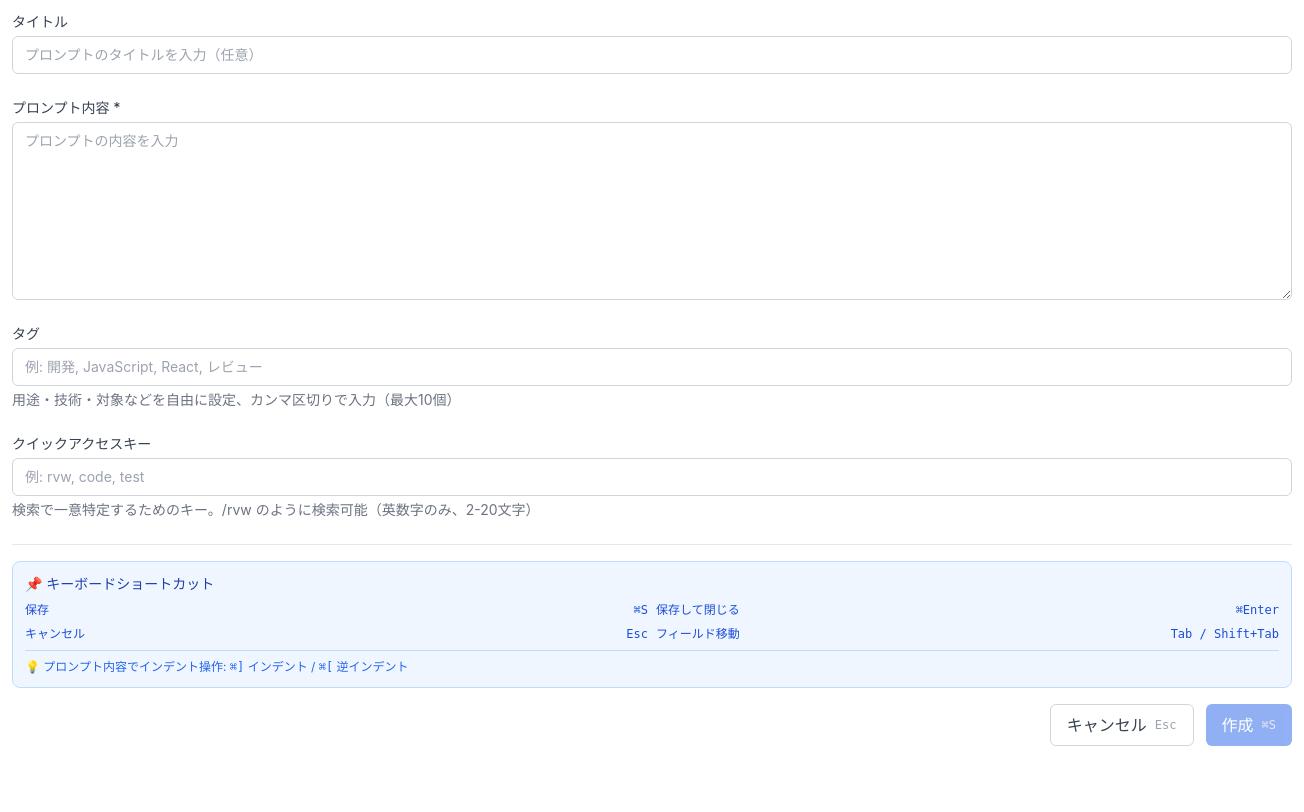
PromptForm › enables submit button with title and content filled
The width and height of the screenshot is (1304, 812).
// Fill both optional and required fields
In the field labelled "タイトル": coordinates (652, 55) [12,36,1292,74], type "Test Title"
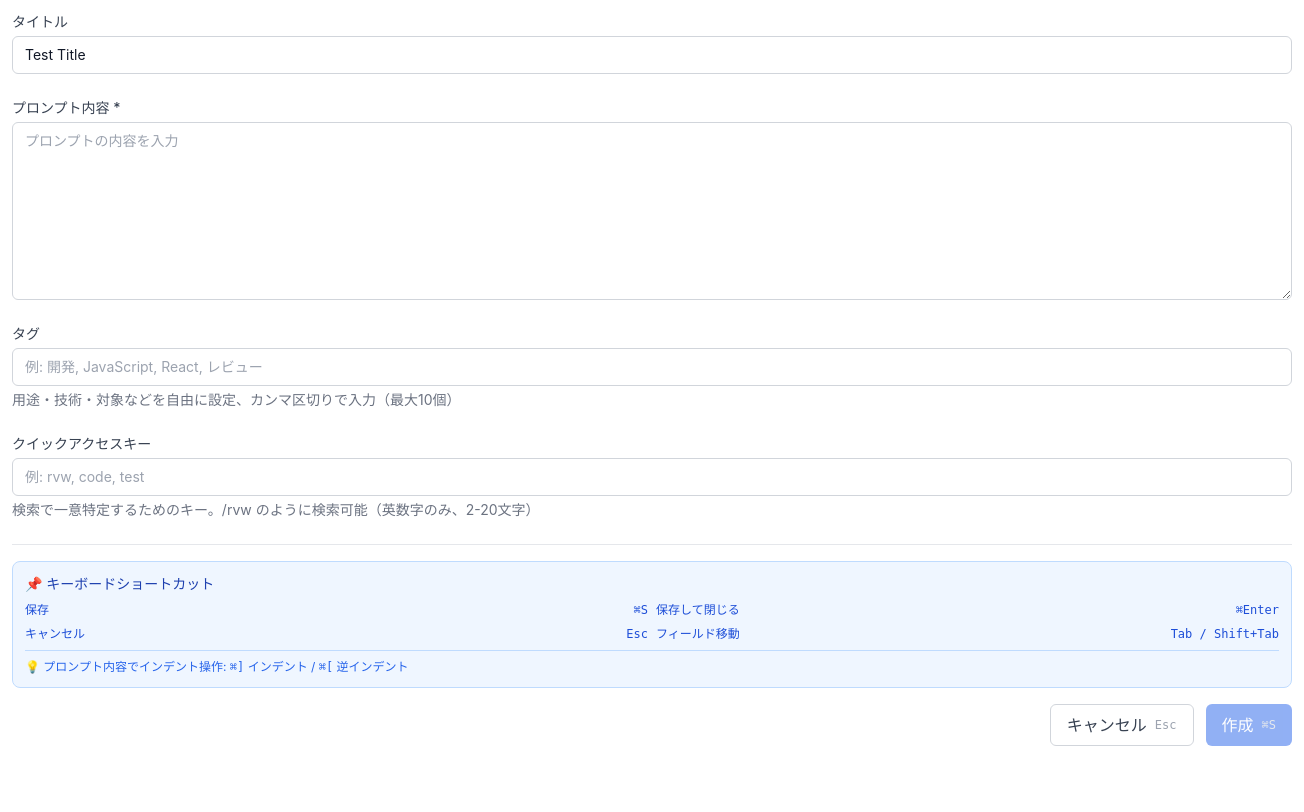
In the text box labelled "プロンプト内容 *": coordinates (652, 211) [12,122,1292,300], type "Test Content"
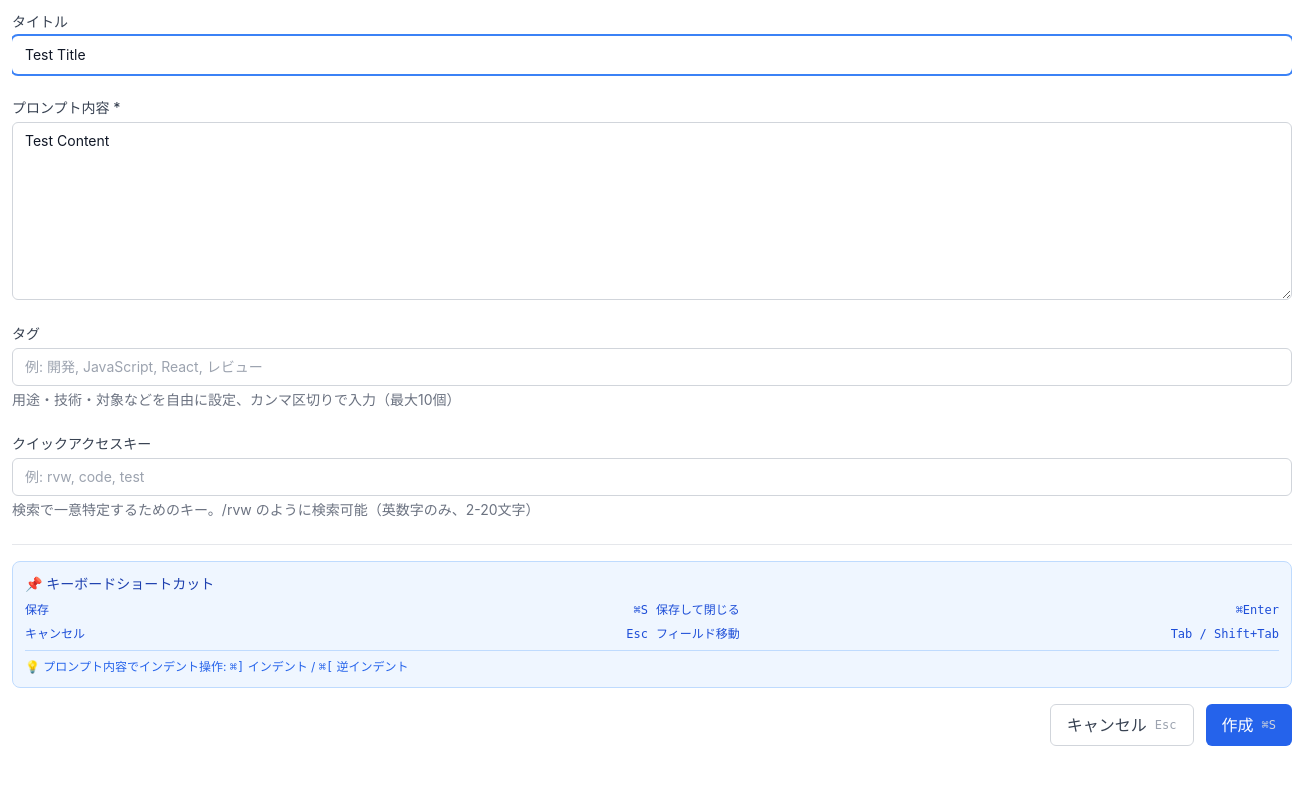
Expected: the button "作成 ⌘S" is enabled, [1206,704,1292,746]
